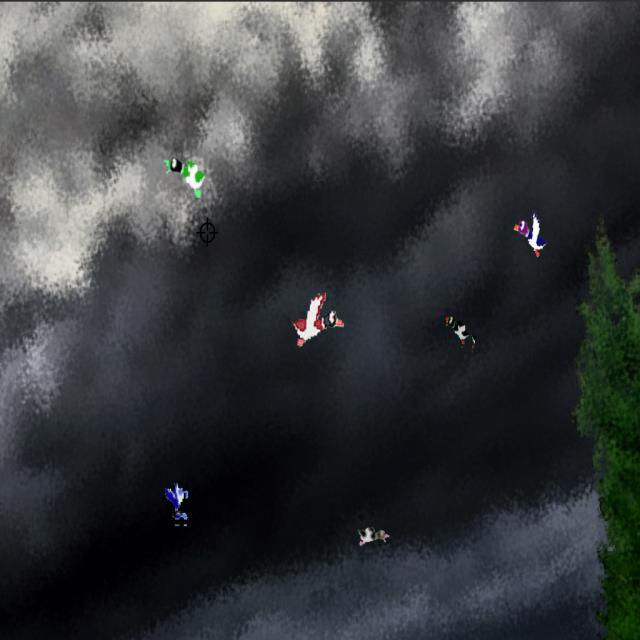duck: (288, 285, 347, 352), (164, 150, 214, 207), (511, 208, 555, 264), (441, 304, 481, 357), (353, 523, 399, 547)
falling_duck: (162, 472, 193, 530)
